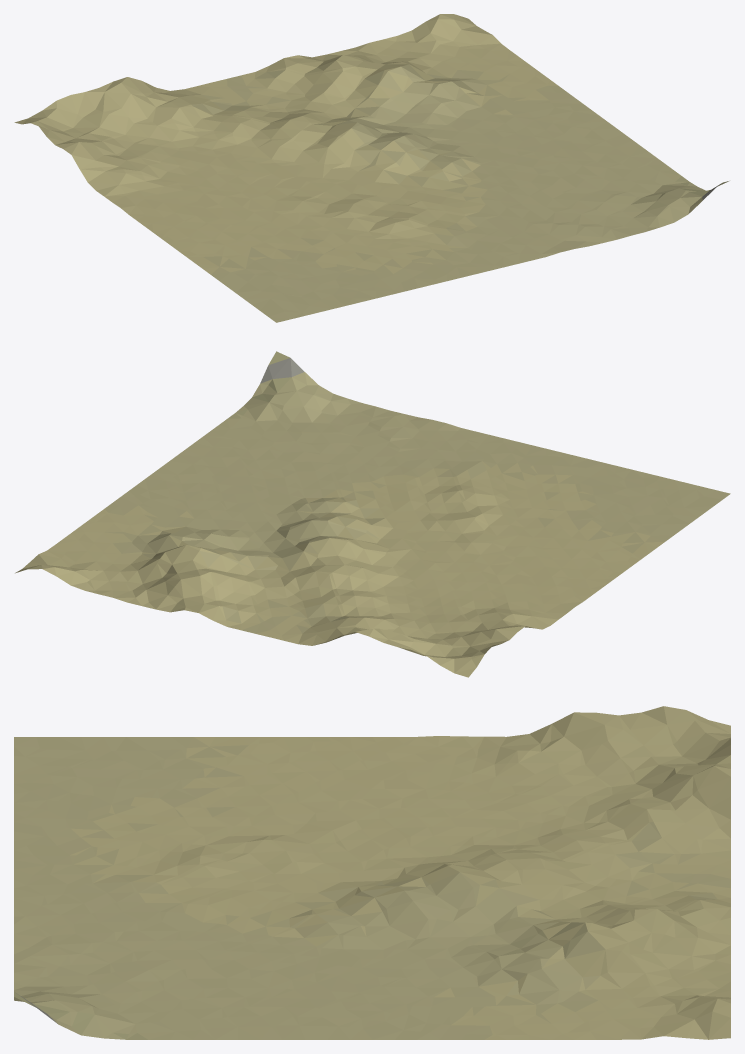
File: Ground_2_-9.glb
3 renders of one model, top to bottom at view 1: azimuth 30°, elevation 25°; view 2: azimuth 150°, elevation 25°; view 3: azimuth 270°, elevation 25°, orthographic. The views are drawn at different scales.
Parts seen in each view (by area): view 1: Ground_2_-9; view 2: Ground_2_-9; view 3: Ground_2_-9.
Boxes of the visible parts, left/top/right/bottom form: Ground_2_-9: left=14, top=14, right=728, bottom=322; Ground_2_-9: left=15, top=351, right=730, bottom=677; Ground_2_-9: left=14, top=706, right=730, bottom=1039.
Bounding box in the file's own units: 768 × 50.91 × 768.
